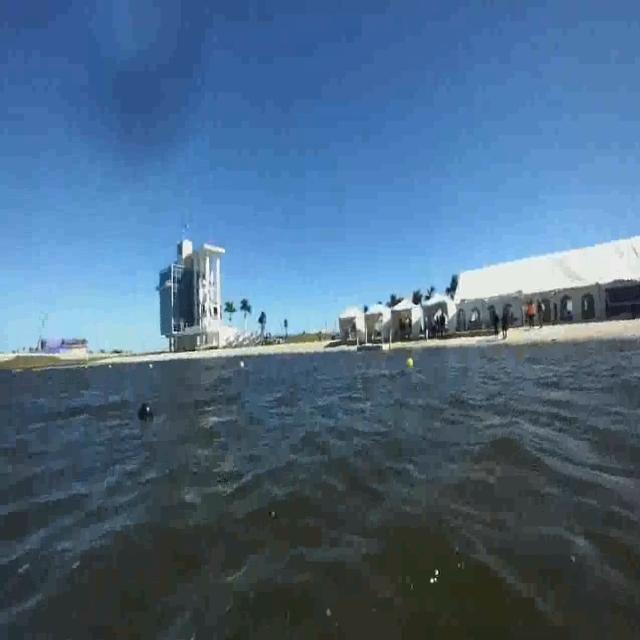black-buoy: (138, 399, 153, 426)
yellow-buoy: (407, 356, 415, 368)
